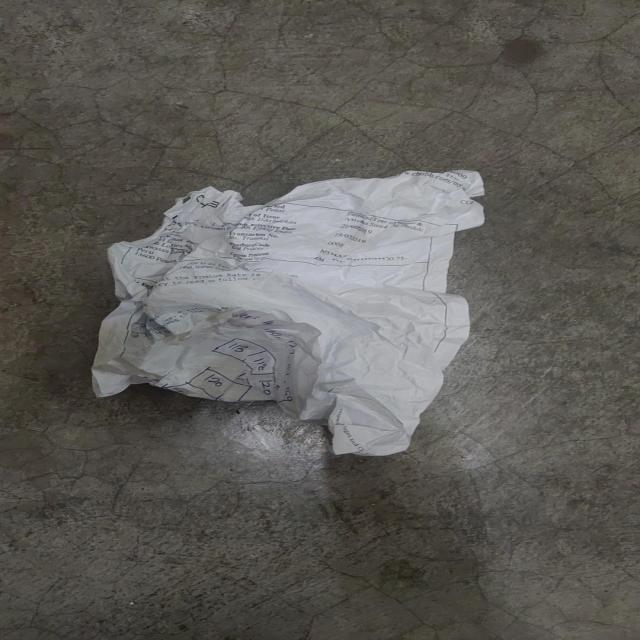paper: (96, 167, 491, 456)
